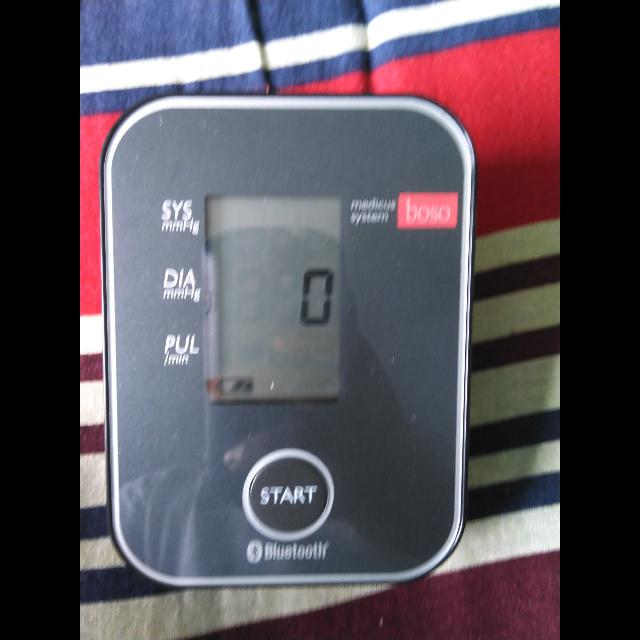Blood-Pressure-Monitor: (86, 71, 540, 616)
